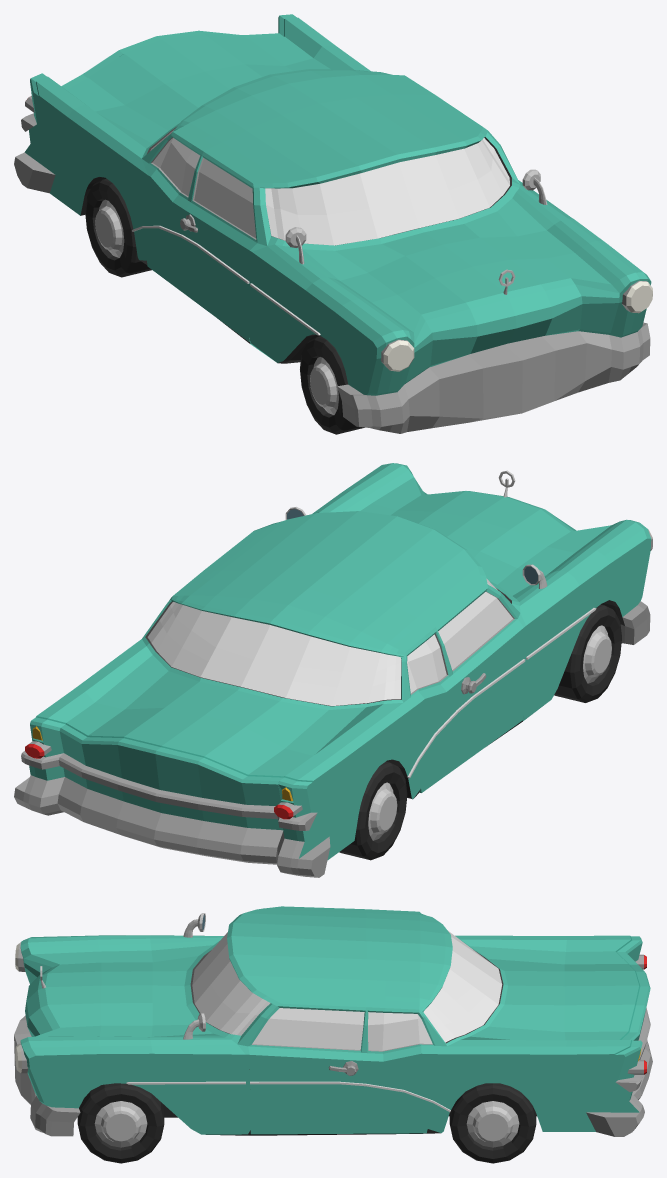
File: Car_Classy_01.fbx
The picture shows the model from 3 angles, top to bottom: view 1: azimuth 30°, elevation 25°; view 2: azimuth 150°, elevation 25°; view 3: azimuth 270°, elevation 25°; orthographic projection. The views are drawn at different scales.
Visible parts, largest first — view 1: Classic_Car_01, Classic_Car_01.003, Wheel_Classic_01.F.L..003, Wheel_Classic_01.F.L..001; view 2: Classic_Car_01, Classic_Car_01.003, Wheel_Classic_01.F.L..001, Wheel_Classic_01.F.L..003; view 3: Classic_Car_01, Classic_Car_01.002, Wheel_Classic_01.F.L., Wheel_Classic_01.F.L..002.
Boxes of the visible parts, <box> form: Classic_Car_01: <box>14,14,652,433</box>; Classic_Car_01.003: <box>141,135,257,341</box>; Wheel_Classic_01.F.L..003: <box>85,178,151,277</box>; Wheel_Classic_01.F.L..001: <box>300,336,364,434</box>; Classic_Car_01: <box>14,463,652,877</box>; Classic_Car_01.003: <box>406,588,525,792</box>; Wheel_Classic_01.F.L..001: <box>554,604,621,702</box>; Wheel_Classic_01.F.L..003: <box>339,761,407,860</box>; Classic_Car_01: <box>14,906,652,1136</box>; Classic_Car_01.002: <box>248,1006,437,1134</box>; Wheel_Classic_01.F.L.: <box>77,1083,164,1163</box>; Wheel_Classic_01.F.L..002: <box>449,1083,536,1163</box>.
Size of the model in its own units: 275 by 174 by 590.
